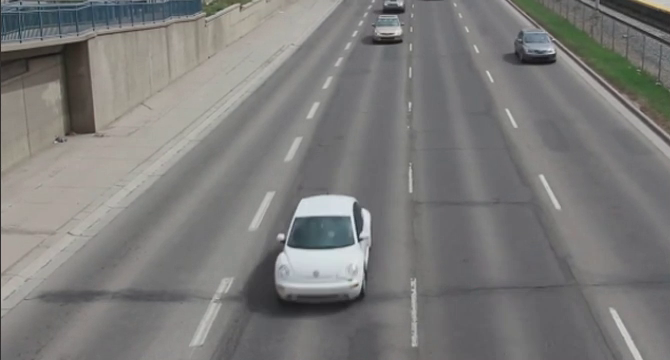car: (265, 194, 378, 306), (511, 24, 561, 69), (368, 12, 406, 44)
